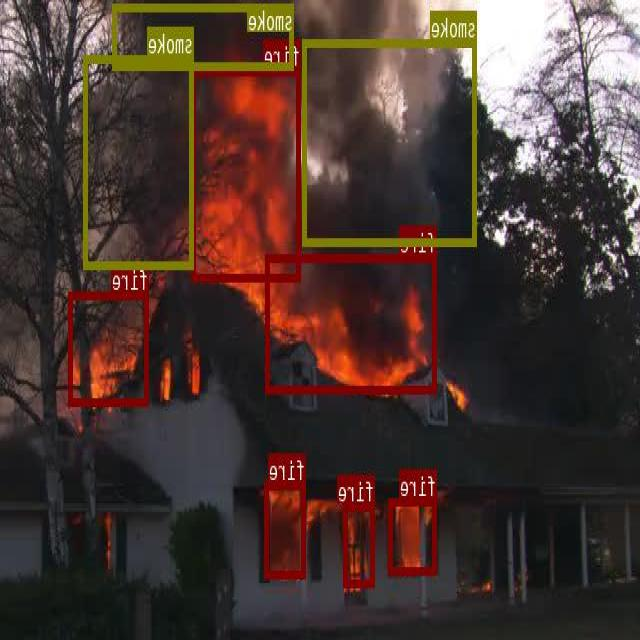fire: (266, 253, 438, 393), (193, 67, 301, 280), (70, 290, 150, 404), (265, 481, 307, 577), (390, 497, 438, 572), (345, 502, 375, 586)
smoke: (304, 38, 478, 244), (84, 55, 195, 267), (114, 3, 294, 68)
